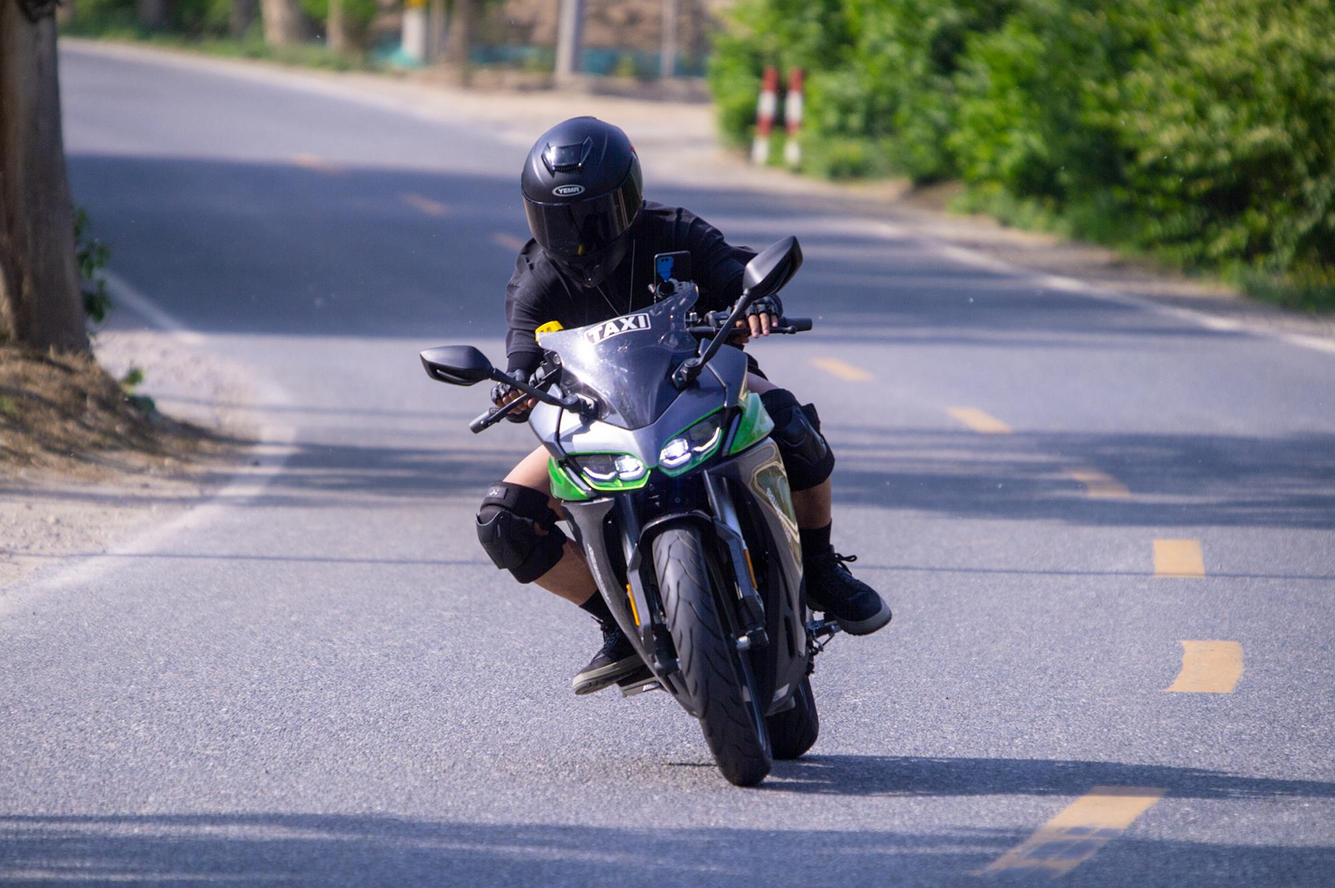helmet: (520, 114, 644, 289)
